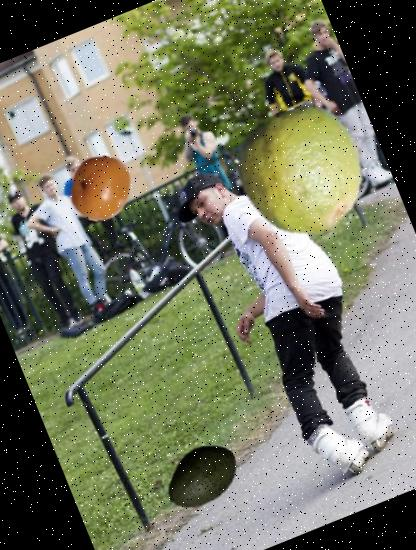Avocado: (150, 424, 252, 527)
Limes: (216, 88, 388, 258)
Tomato: (58, 144, 144, 232)
